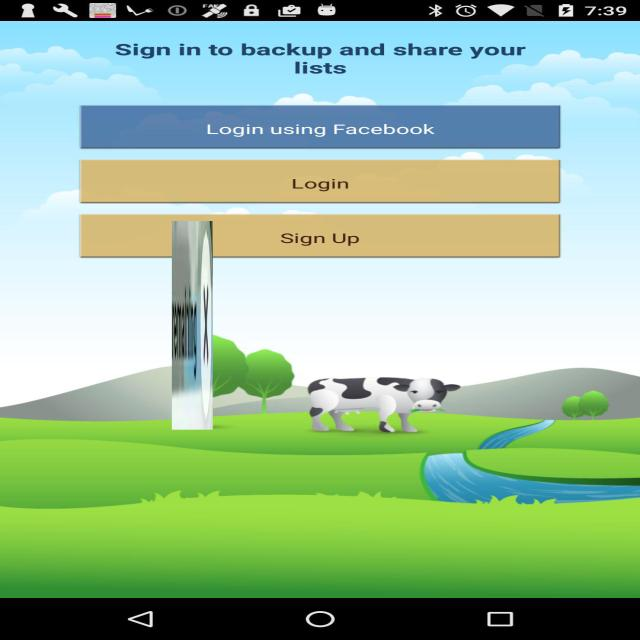misdirection: (172, 221, 213, 430)
